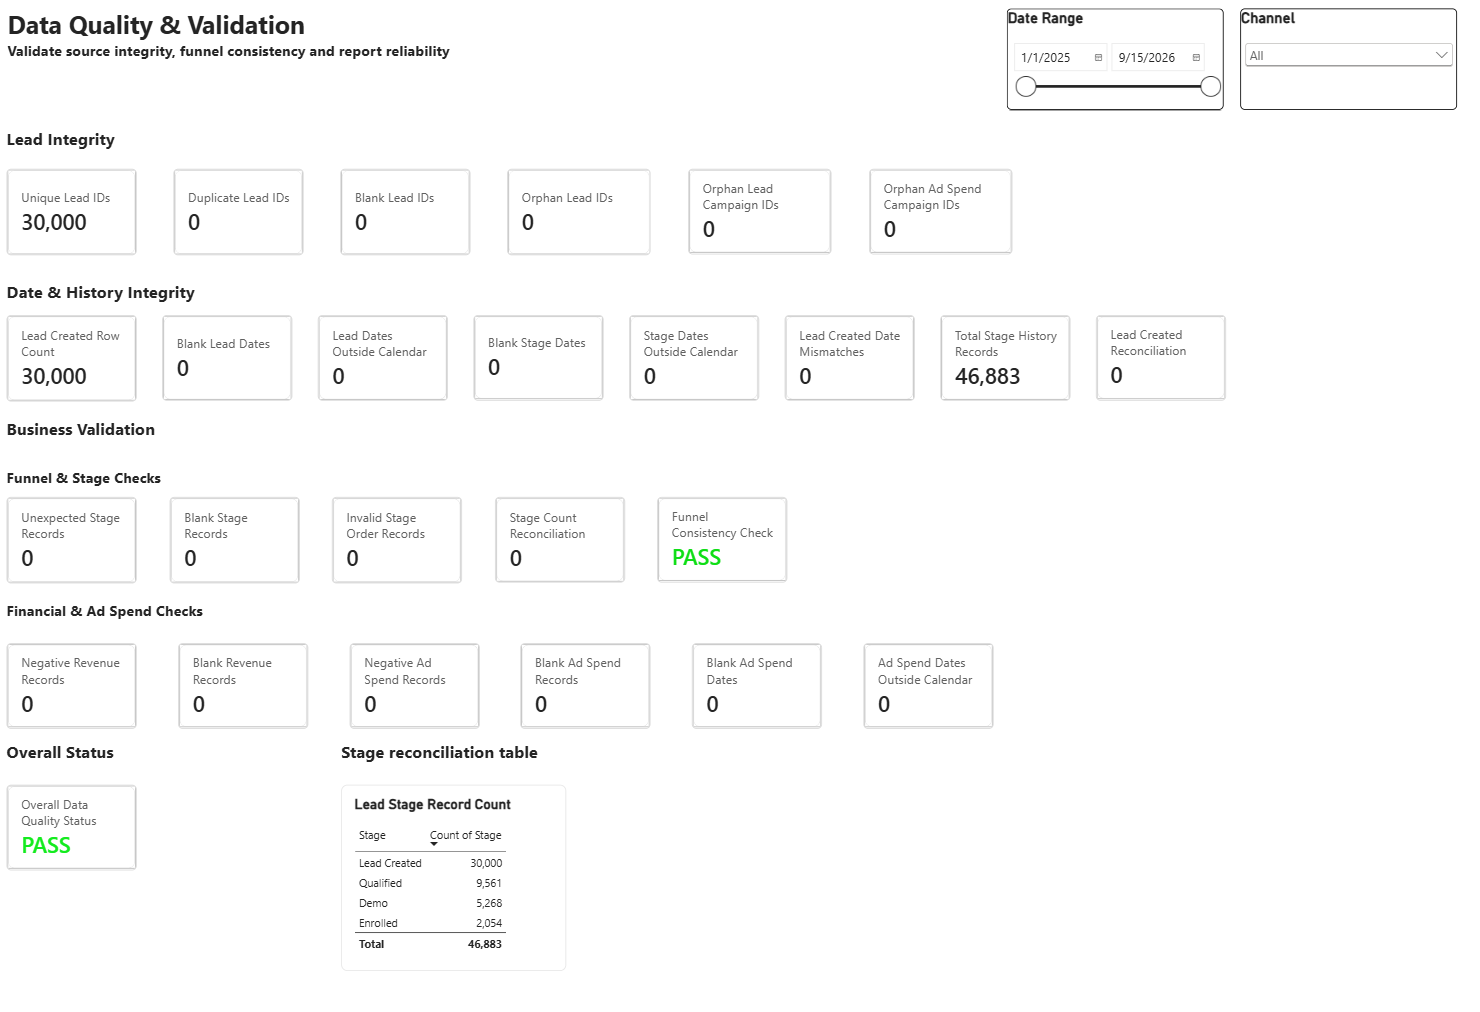

The page's visual inventory and layout, read from the dashboard file:
{"tool":"powerbi","page":{"name":"06 - Data Quality & Validation.","canvas":[1920,1310],"ordinal":5},"visuals":[{"type":"textbox","box":[11.1,9.3,1285.2,133.3],"z":0},{"type":"slicer","title":"Channel","fields":{"Values":["DimCampaign.Channel"]},"box":[1606,11.1,281,131],"z":1000},{"type":"slicer","title":"Date Range","fields":{"Values":["DimDate.Date"]},"box":[1304,11.1,281,131],"z":2000},{"type":"cardVisual","fields":{"Data":["FactLeads.Unique Lead IDs"]},"box":[10,218.6,168,112],"z":3000},{"type":"cardVisual","fields":{"Data":["FactLeads.Duplicate Lead IDs"]},"box":[226,218.6,168,112],"z":4000},{"type":"cardVisual","fields":{"Data":["FactLeads.Blank Lead IDs"]},"box":[441.9,218.6,168,112],"z":5000},{"type":"cardVisual","fields":{"Data":["LeadStageHistory.Lead Created Row Count"]},"box":[10,407,168,112],"z":6000},{"type":"cardVisual","fields":{"Data":["LeadStageHistory.Orphan Lead IDs"]},"box":[657.8,218.6,186,112],"z":7000},{"type":"cardVisual","fields":{"Data":["LeadStageHistory.Unexpected Stage Records"]},"box":[10,643.2,168,112],"z":8000},{"type":"cardVisual","fields":{"Data":["LeadStageHistory.Blank Stage Records"]},"box":[220.5,643.2,168,112],"z":9000},{"type":"cardVisual","fields":{"Data":["LeadStageHistory.Invalid Stage Order Records"]},"box":[430.9,643.2,168,112],"z":10000},{"type":"tableEx","title":"Lead Stage Record Count","fields":{"Values":["LeadStageHistory.Stage","CountNonNull(LeadStageHistory.Stage)"]},"box":[442.2,1015,291.4,241.2],"z":11000},{"type":"cardVisual","fields":{"Data":["FactLeads.Blank Lead Dates"]},"box":[211.4,407,168,111.5],"z":12000},{"type":"cardVisual","fields":{"Data":["FactLeads.Lead Dates Outside Calendar"]},"box":[412.8,407,168,111.5],"z":13000},{"type":"cardVisual","fields":{"Data":["LeadStageHistory.Blank Stage Dates"]},"box":[614.1,407,168,110.5],"z":14000},{"type":"cardVisual","fields":{"Data":["LeadStageHistory.Stage Dates Outside Calendar"]},"box":[815.5,407,168,111.5],"z":15000},{"type":"cardVisual","fields":{"Data":["LeadStageHistory.Lead Created Date Mismatches"]},"box":[1016.8,407,168,111.5],"z":16000},{"type":"cardVisual","fields":{"Data":["LeadStageHistory.Total Stage History Records"]},"box":[1218.2,407,168,111.5],"z":17000},{"type":"cardVisual","fields":{"Data":["LeadStageHistory.Stage Count Reconciliation"]},"box":[641.3,643.2,168,111.5],"z":18000},{"type":"cardVisual","fields":{"Data":["LeadStageHistory.Funnel Consistency Check"]},"box":[851.7,643.2,168,110.5],"z":19000},{"type":"cardVisual","fields":{"Data":["FactLeads.Lead Created Reconciliation"]},"box":[1419.5,407,168,110.5],"z":20000},{"type":"cardVisual","fields":{"Data":["FactLeads.Overall Data Quality Status"]},"box":[10,1015,168,110.5],"z":21000},{"type":"textbox","box":[10,361.8,281.4,37.7],"z":22000},{"type":"textbox","box":[10,163.3,281.4,37.7],"z":23000},{"type":"textbox","box":[10,540.2,281.4,37.7],"z":24000},{"type":"cardVisual","fields":{"Data":["FactLeads.Negative Revenue Records"]},"box":[10,831.6,168,110.5],"z":25000},{"type":"cardVisual","fields":{"Data":["FactLeads.Blank Revenue Records"]},"box":[231.6,831.6,168,110.5],"z":26000},{"type":"cardVisual","fields":{"Data":["FactAdSpend.Negative Ad Spend Records"]},"box":[453.3,831.6,168,110.5],"z":27000},{"type":"cardVisual","fields":{"Data":["FactAdSpend.Blank Ad Spend Records"]},"box":[674.9,831.6,168,110.5],"z":28000},{"type":"cardVisual","fields":{"Data":["FactAdSpend.Blank Ad Spend Dates"]},"box":[896.5,831.6,168,110.5],"z":29000},{"type":"cardVisual","fields":{"Data":["FactAdSpend.Ad Spend Dates Outside Calendar"]},"box":[1118.1,831.6,168,110.5],"z":30000},{"type":"cardVisual","fields":{"Data":["FactAdSpend.Orphan Ad Spend Campaign IDs"]},"box":[1125.6,218.6,185.9,110.5],"z":31000},{"type":"cardVisual","fields":{"Data":["FactLeads.Orphan Lead Campaign IDs"]},"box":[891.7,218.6,185.9,110.5],"z":32000},{"type":"textbox","box":[10,957.3,281.4,37.7],"z":33000},{"type":"textbox","box":[442.2,957.3,281.4,37.7],"z":34000},{"type":"textbox","box":[10,605.5,281.4,37.7],"z":35000},{"type":"textbox","box":[10,776.4,281.4,37.7],"z":36000}]}

Visuals, with their boxes in screenshot pixels (x1, y1, x2, y2), scaled from the page's 1920x1310 canvas onto the 1480x1012 screenshot:
textbox: box(9, 7, 999, 110)
"Channel" slicer: box(1238, 9, 1455, 110)
"Date Range" slicer: box(1005, 9, 1222, 110)
cardVisual - FactLeads.Unique Lead IDs: box(8, 169, 137, 255)
cardVisual - FactLeads.Duplicate Lead IDs: box(174, 169, 304, 255)
cardVisual - FactLeads.Blank Lead IDs: box(341, 169, 470, 255)
cardVisual - LeadStageHistory.Lead Created Row Count: box(8, 314, 137, 401)
cardVisual - LeadStageHistory.Orphan Lead IDs: box(507, 169, 650, 255)
cardVisual - LeadStageHistory.Unexpected Stage Records: box(8, 497, 137, 583)
cardVisual - LeadStageHistory.Blank Stage Records: box(170, 497, 299, 583)
cardVisual - LeadStageHistory.Invalid Stage Order Records: box(332, 497, 462, 583)
"Lead Stage Record Count" tableEx: box(341, 784, 565, 970)
cardVisual - FactLeads.Blank Lead Dates: box(163, 314, 292, 401)
cardVisual - FactLeads.Lead Dates Outside Calendar: box(318, 314, 448, 401)
cardVisual - LeadStageHistory.Blank Stage Dates: box(473, 314, 603, 400)
cardVisual - LeadStageHistory.Stage Dates Outside Calendar: box(629, 314, 758, 401)
cardVisual - LeadStageHistory.Lead Created Date Mismatches: box(784, 314, 913, 401)
cardVisual - LeadStageHistory.Total Stage History Records: box(939, 314, 1069, 401)
cardVisual - LeadStageHistory.Stage Count Reconciliation: box(494, 497, 624, 583)
cardVisual - LeadStageHistory.Funnel Consistency Check: box(657, 497, 786, 582)
cardVisual - FactLeads.Lead Created Reconciliation: box(1094, 314, 1224, 400)
cardVisual - FactLeads.Overall Data Quality Status: box(8, 784, 137, 869)
textbox: box(8, 279, 225, 309)
textbox: box(8, 126, 225, 155)
textbox: box(8, 417, 225, 446)
cardVisual - FactLeads.Negative Revenue Records: box(8, 642, 137, 728)
cardVisual - FactLeads.Blank Revenue Records: box(179, 642, 308, 728)
cardVisual - FactAdSpend.Negative Ad Spend Records: box(349, 642, 479, 728)
cardVisual - FactAdSpend.Blank Ad Spend Records: box(520, 642, 650, 728)
cardVisual - FactAdSpend.Blank Ad Spend Dates: box(691, 642, 821, 728)
cardVisual - FactAdSpend.Ad Spend Dates Outside Calendar: box(862, 642, 991, 728)
cardVisual - FactAdSpend.Orphan Ad Spend Campaign IDs: box(868, 169, 1011, 254)
cardVisual - FactLeads.Orphan Lead Campaign IDs: box(687, 169, 831, 254)
textbox: box(8, 740, 225, 769)
textbox: box(341, 740, 558, 769)
textbox: box(8, 468, 225, 497)
textbox: box(8, 600, 225, 629)
